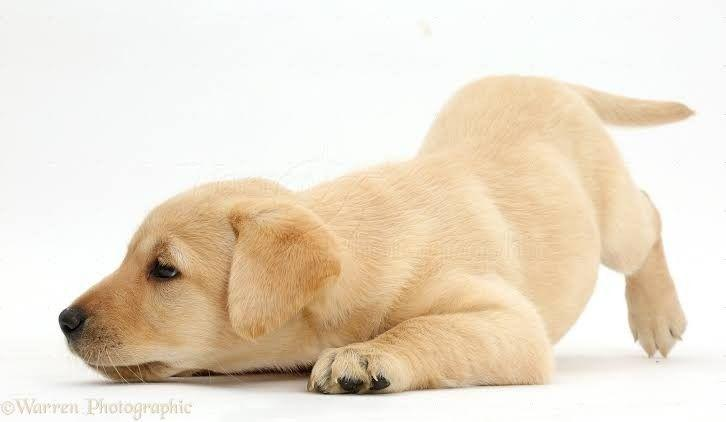puppy-dog: (59, 71, 696, 397)
